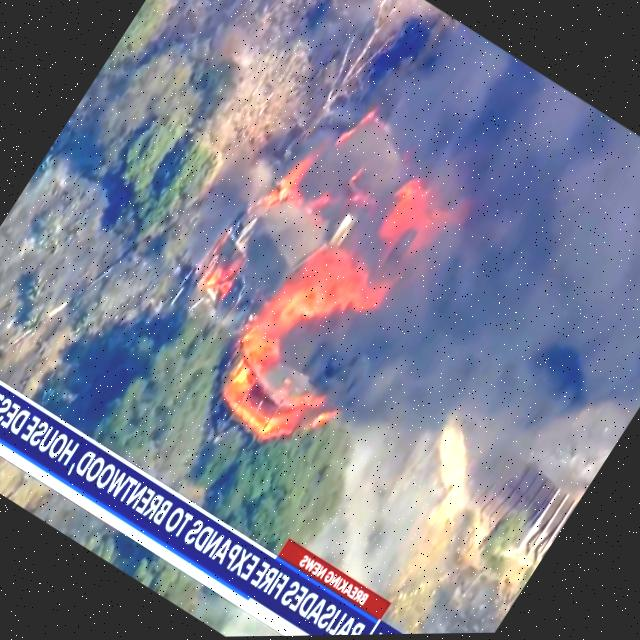Smoke: (334, 84, 640, 489)
